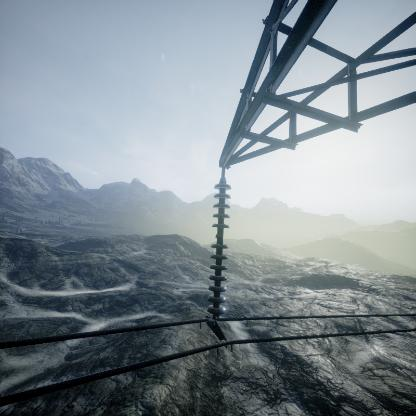insulator: (207, 177, 232, 316)
